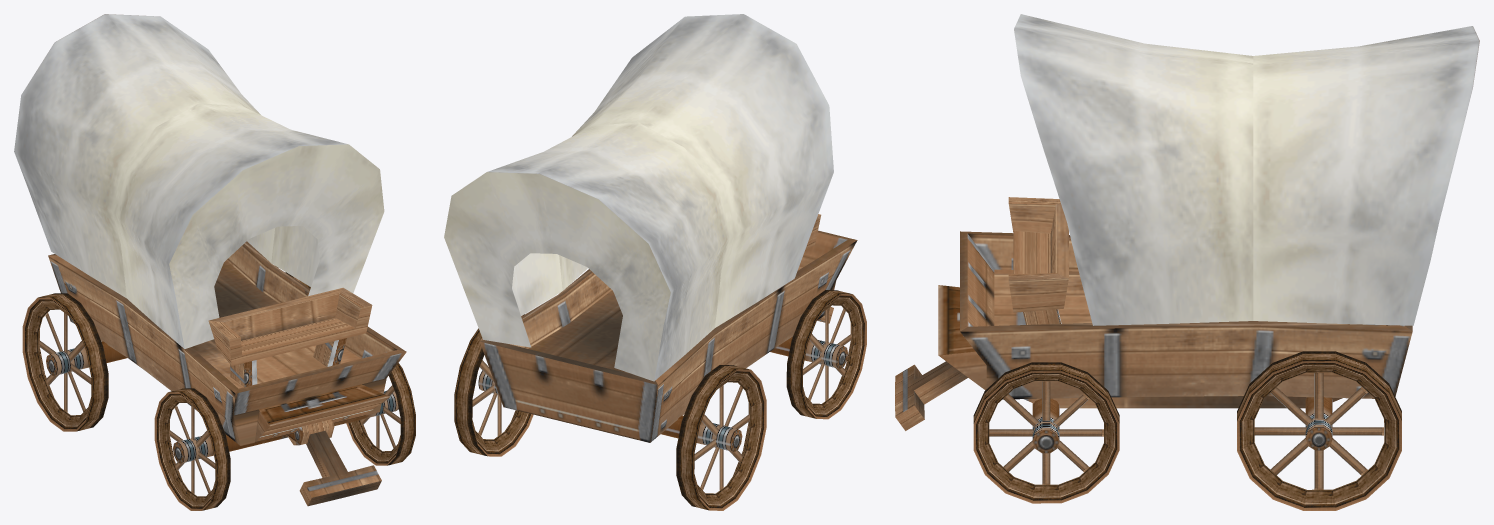
The picture shows the model from 3 angles, left to right: view 1: azimuth 30°, elevation 25°; view 2: azimuth 150°, elevation 25°; view 3: azimuth 270°, elevation 25°; orthographic projection. The views are drawn at different scales.
Visible parts, largest first — view 1: wagon; view 2: wagon; view 3: wagon.
Boxes of the visible parts, bbox=[...] form: wagon: bbox=[14, 14, 415, 510]; wagon: bbox=[444, 14, 866, 510]; wagon: bbox=[895, 14, 1479, 510].
Bounding box in the file's own units: 187 × 258 × 329.
Materials: 1 (1 with a texture image).
